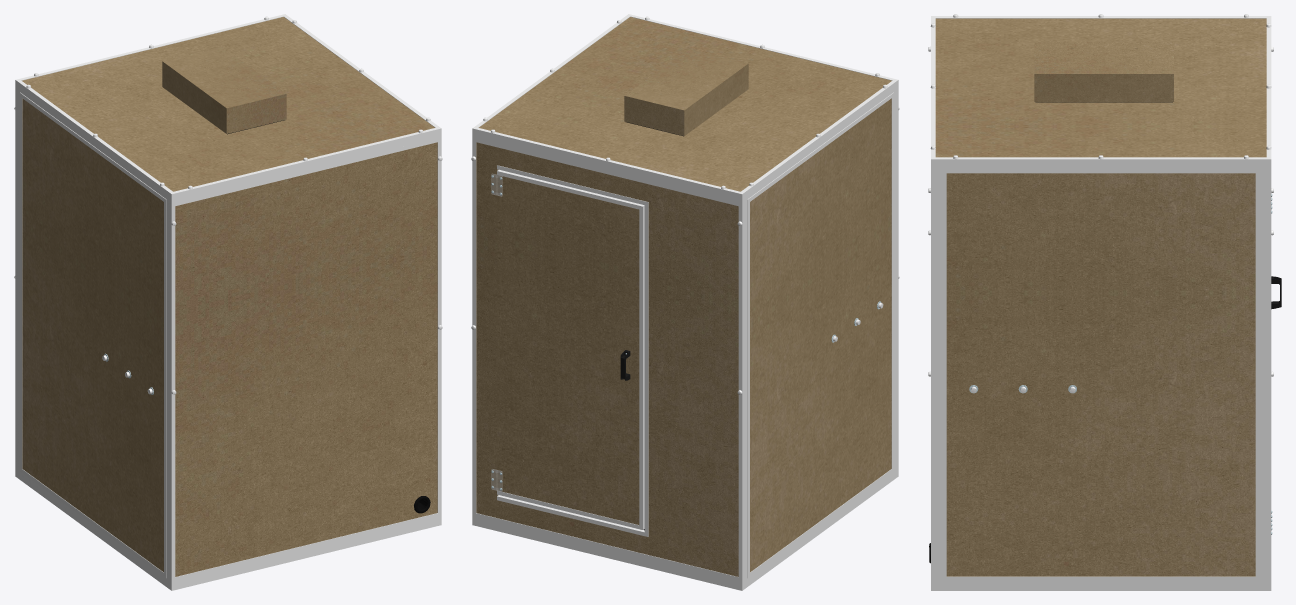
The model's file is danbocchi_wide-v6stl_m2-lowply_joint_moblie.fbx.
3 views of the same model, side by side, from view 1: azimuth 30°, elevation 25°; view 2: azimuth 150°, elevation 25°; view 3: azimuth 270°, elevation 25° (orthographic). The views are drawn at different scales.
Parts seen in each view (by area): view 1: d6w RearPanel, d6w RightPanel, d6w RoofPanel, d6w Silencer, d6w FloorPanel, d6w FrontPanel; view 2: d6w FrontPanel, d6w RightPanel, d6w DoorPanel, d6w RoofPanel, d6w Silencer, d6w FloorPanel, d6w RearPanel; view 3: d6w LeftPanel, d6w RoofPanel, d6w Silencer, d6w FrontPanel, d6w RearPanel, d6w FloorPanel.
Part boxes in pixels (<box>): d6w RearPanel: <box>166,137,442,581</box>; d6w RightPanel: <box>20,92,166,578</box>; d6w RoofPanel: <box>15,14,441,202</box>; d6w Silencer: <box>162,46,286,134</box>; d6w FloorPanel: <box>15,468,441,590</box>; d6w FrontPanel: <box>14,89,19,470</box>; d6w FrontPanel: <box>471,137,747,581</box>; d6w RightPanel: <box>747,92,893,578</box>; d6w DoorPanel: <box>497,169,644,529</box>; d6w RoofPanel: <box>472,14,898,202</box>; d6w Silencer: <box>624,49,748,136</box>; d6w FloorPanel: <box>472,468,898,590</box>; d6w RearPanel: <box>894,89,899,470</box>; d6w LeftPanel: <box>942,169,1260,581</box>; d6w RoofPanel: <box>930,14,1271,169</box>; d6w Silencer: <box>1034,42,1173,102</box>; d6w FrontPanel: <box>1260,47,1273,581</box>; d6w RearPanel: <box>928,46,941,581</box>; d6w FloorPanel: <box>931,581,1271,590</box>.
Bounding box in the file's own units: 110 × 161 × 112.
